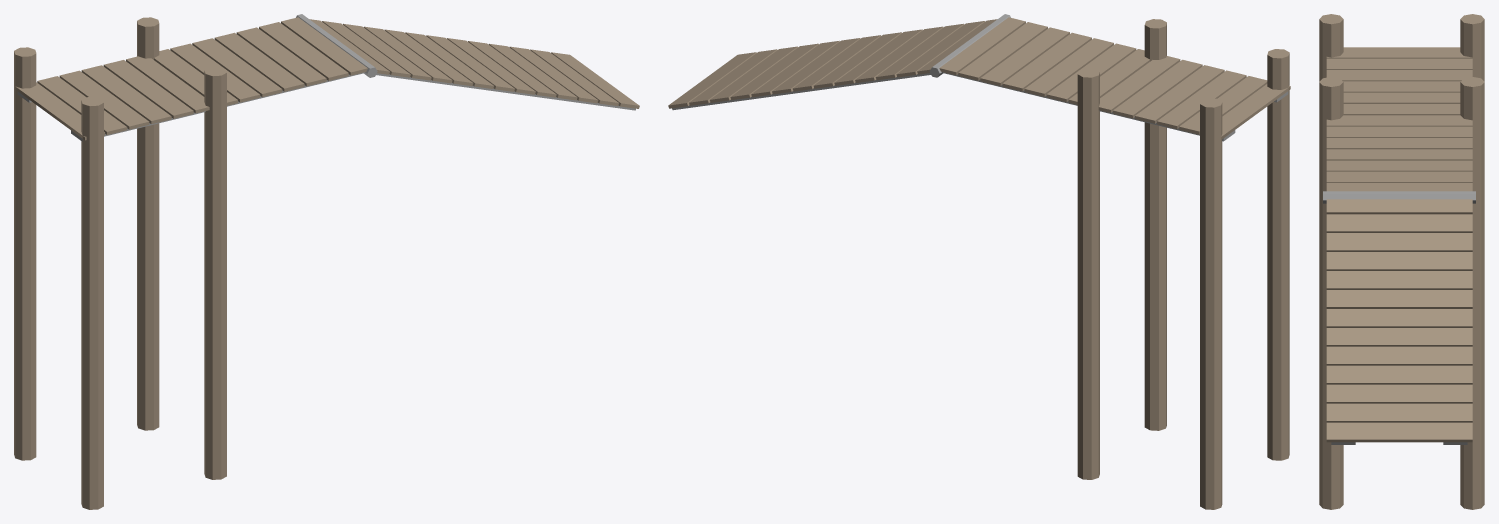
The model's file is DockFinal.fbx.
The picture shows the model from 3 angles, left to right: view 1: azimuth 30°, elevation 25°; view 2: azimuth 150°, elevation 25°; view 3: azimuth 270°, elevation 25°; orthographic projection. The views are drawn at different scales.
Parts seen in each view (by area): view 1: pCube32, pCube31; view 2: pCube32, pCube31; view 3: pCube32, pCube31.
Part boxes in pixels (x1,y1,x2,y2): pCube32: (14, 17, 639, 509); pCube31: (17, 14, 635, 141); pCube32: (668, 17, 1290, 509); pCube31: (672, 14, 1288, 141); pCube32: (1319, 14, 1484, 509); pCube31: (1323, 191, 1475, 444).
Bounding box in the file's own units: 27.57 × 19.17 × 6.8.
